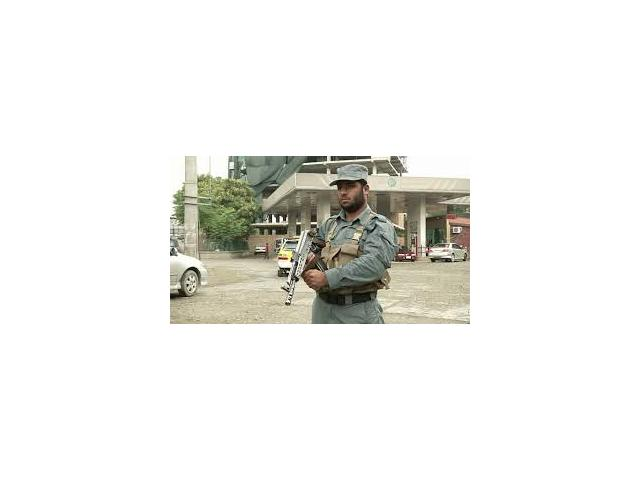rifle: (282, 228, 343, 312)
